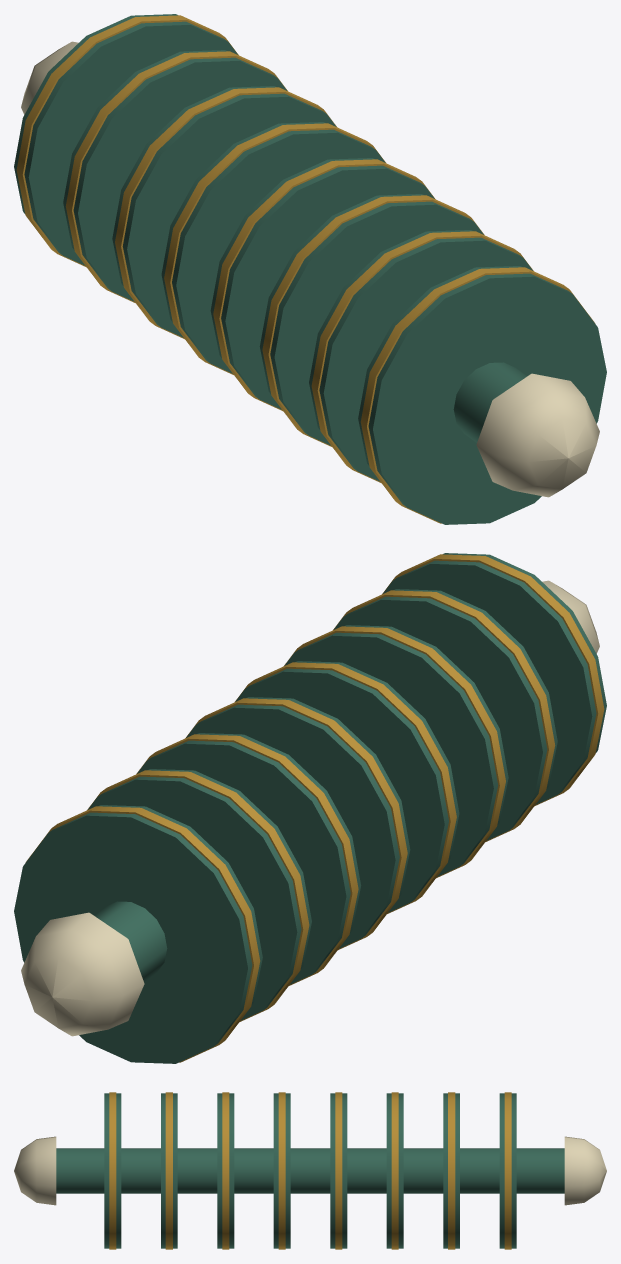
Rendered from hefe_emitter.obj.
The picture shows the model from 3 angles, top to bottom: view 1: azimuth 30°, elevation 25°; view 2: azimuth 150°, elevation 25°; view 3: azimuth 270°, elevation 25°; orthographic projection. The views are drawn at different scales.
Parts seen in each view (by area): view 1: hefe_emitter; view 2: hefe_emitter; view 3: hefe_emitter.
Boxes of the visible parts, bbox=[...] form: hefe_emitter: bbox=[14, 14, 606, 524]; hefe_emitter: bbox=[14, 553, 606, 1063]; hefe_emitter: bbox=[14, 1092, 606, 1249].
Size of the model in its own units: 1.12 by 1.12 by 4.2.
